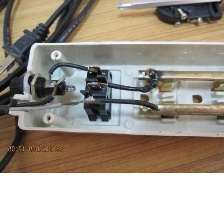three_eye_plug: (3, 32, 224, 145)
